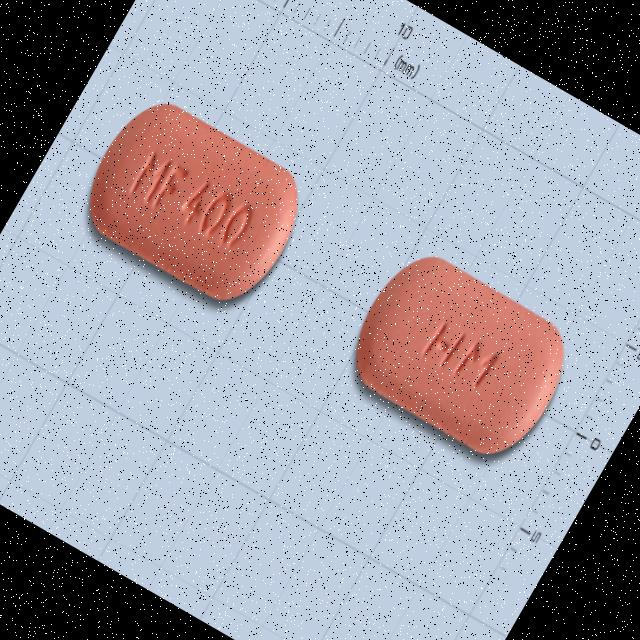Moroxacin: (68, 86, 320, 319), (335, 240, 586, 471)
